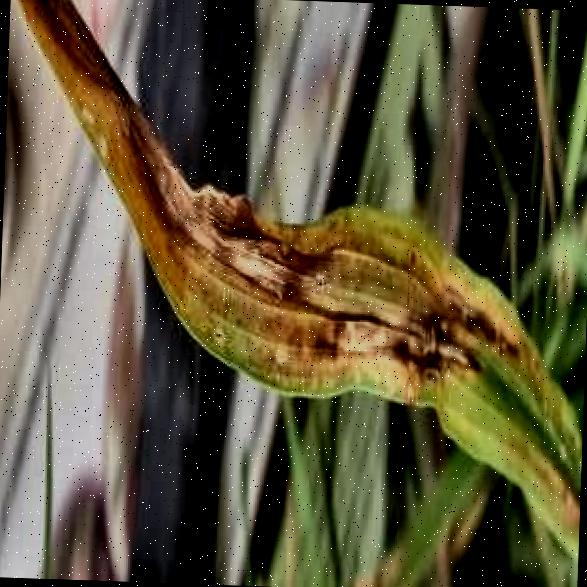Leaf_smut: (247, 203, 570, 544)
